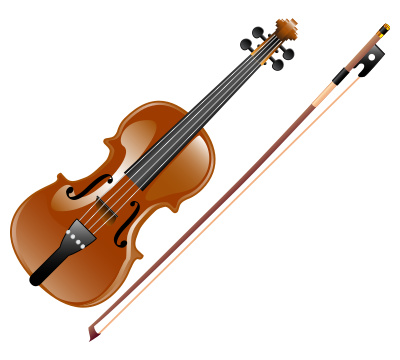Fiddle: (12, 17, 390, 340)
